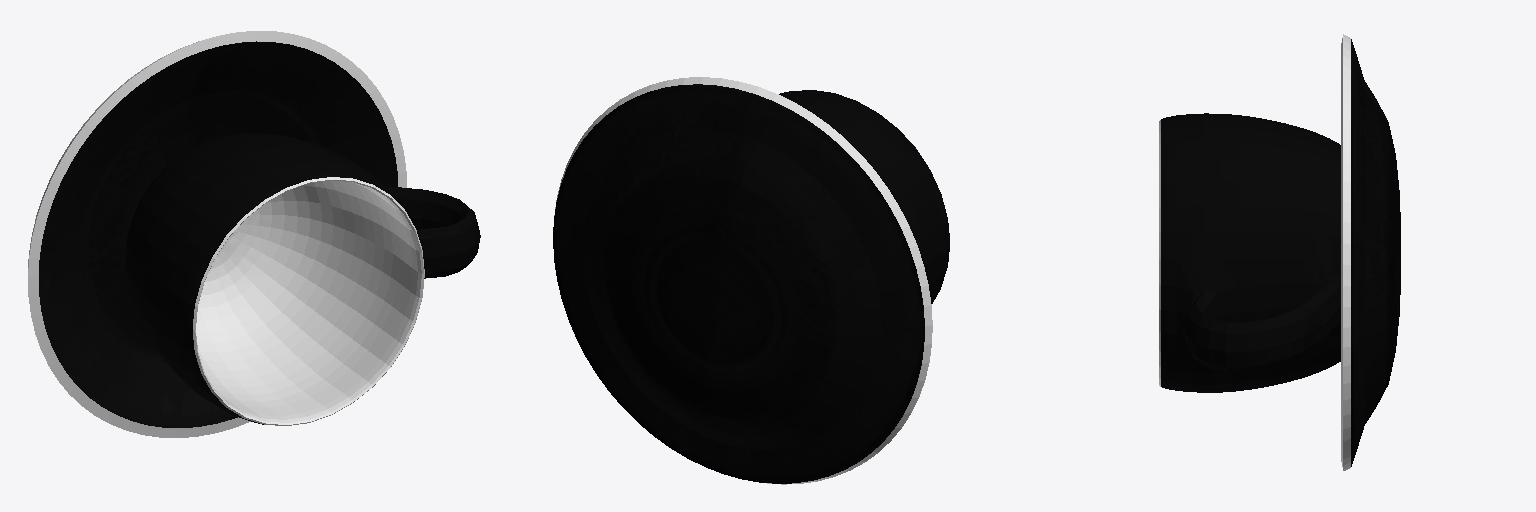
3 views of the same model, side by side, from view 1: azimuth 30°, elevation 25°; view 2: azimuth 150°, elevation 25°; view 3: azimuth 270°, elevation 25° (orthographic).
Parts seen in each view (by area): view 1: 13.0.114.0; view 2: 13.0.114.0; view 3: 13.0.114.0.
Boxes of the visible parts, x1=… form: 13.0.114.0: x1=28, y1=31, x2=480, y2=437; 13.0.114.0: x1=553, y1=77, x2=949, y2=484; 13.0.114.0: x1=1159, y1=34, x2=1400, y2=470.
Size of the model in its own units: 11.41 by 11.02 by 6.09.
5 materials, 3 textured.